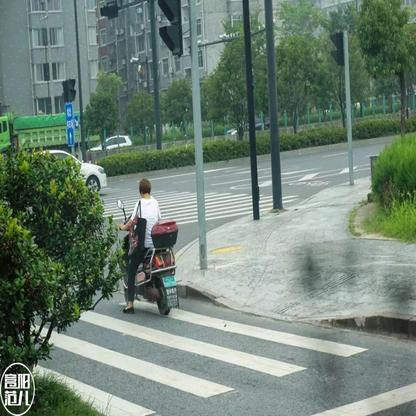target: (114, 177, 185, 314)
